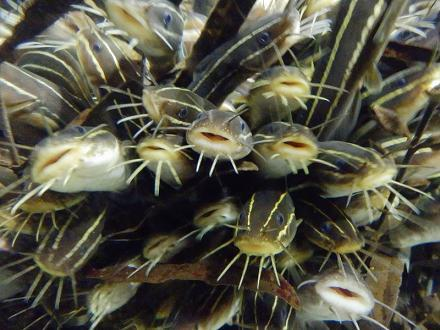gonzui: (23, 118, 137, 191), (188, 102, 263, 171), (233, 184, 295, 266), (108, 1, 194, 56), (300, 268, 379, 318)
